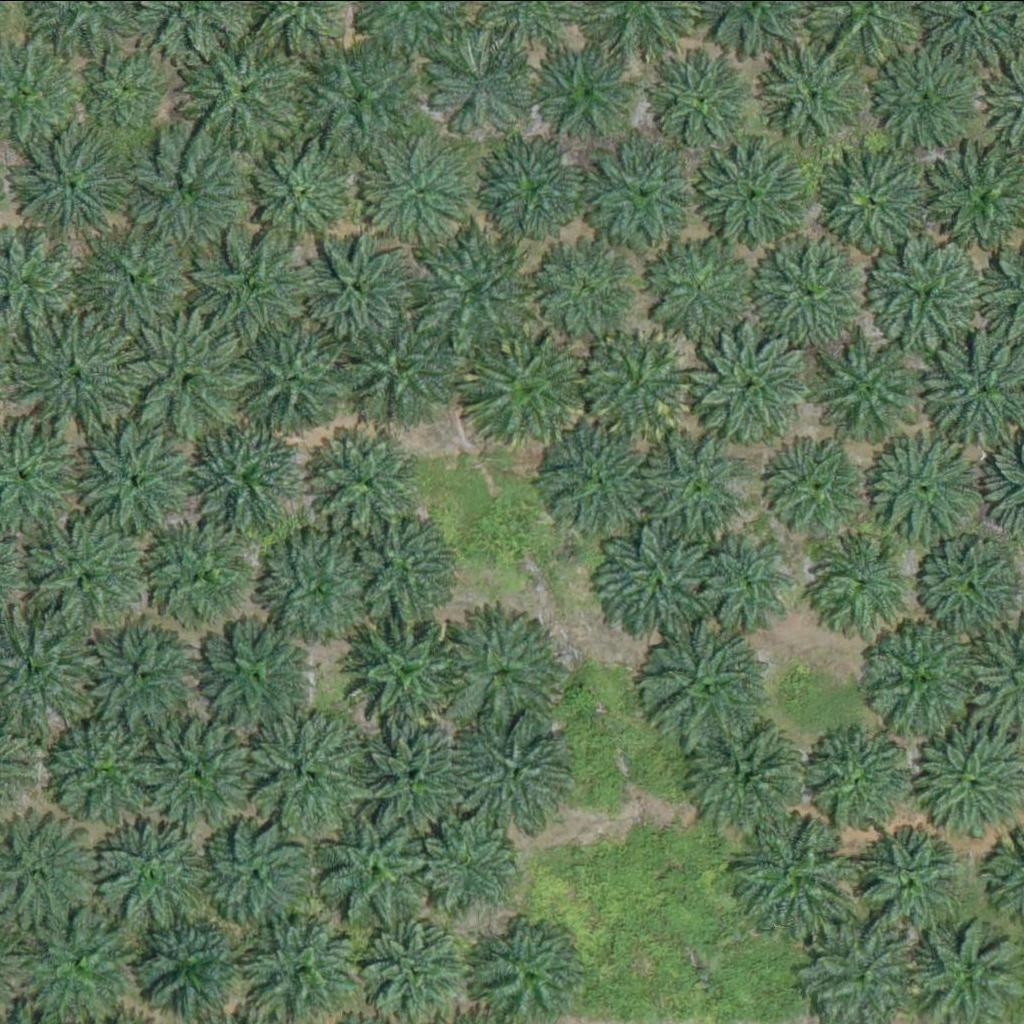Kelapa_Sawit: (97, 814, 223, 939), (317, 809, 443, 934), (137, 704, 263, 829), (245, 705, 371, 830), (453, 709, 579, 834), (27, 523, 153, 648), (338, 610, 464, 735), (442, 606, 568, 731), (12, 313, 138, 438), (127, 317, 253, 442), (183, 21, 309, 146), (596, 519, 722, 644), (649, 625, 775, 750), (734, 808, 860, 933), (857, 616, 983, 741), (43, 704, 168, 829), (138, 518, 263, 643), (256, 529, 381, 654), (471, 326, 596, 451), (247, 908, 361, 1021), (416, 807, 530, 920), (78, 224, 192, 337), (688, 718, 802, 831), (135, 905, 248, 1018), (201, 621, 314, 734), (87, 620, 200, 733), (346, 515, 459, 628), (303, 228, 416, 341), (199, 231, 312, 344), (483, 132, 596, 245), (694, 142, 807, 255), (690, 324, 803, 437), (817, 327, 930, 440), (864, 434, 977, 547), (19, 133, 133, 245), (133, 131, 247, 243), (312, 43, 426, 155), (205, 816, 318, 928), (361, 724, 474, 836), (309, 425, 422, 537), (184, 418, 297, 530), (81, 426, 194, 538), (241, 321, 354, 433), (339, 314, 452, 426), (426, 232, 539, 344), (815, 147, 928, 259), (642, 234, 755, 346), (752, 233, 865, 345), (868, 235, 981, 347), (368, 137, 469, 237), (539, 43, 640, 143), (650, 50, 751, 150), (757, 46, 858, 146), (874, 48, 975, 148), (592, 142, 693, 242), (535, 239, 636, 339), (585, 333, 686, 433), (547, 423, 648, 523), (645, 435, 746, 535), (766, 439, 867, 539), (698, 533, 799, 633), (857, 830, 958, 930), (251, 144, 351, 244), (436, 37, 536, 137), (813, 535, 913, 635), (922, 537, 1022, 637), (806, 731, 906, 831), (90, 47, 166, 122)
